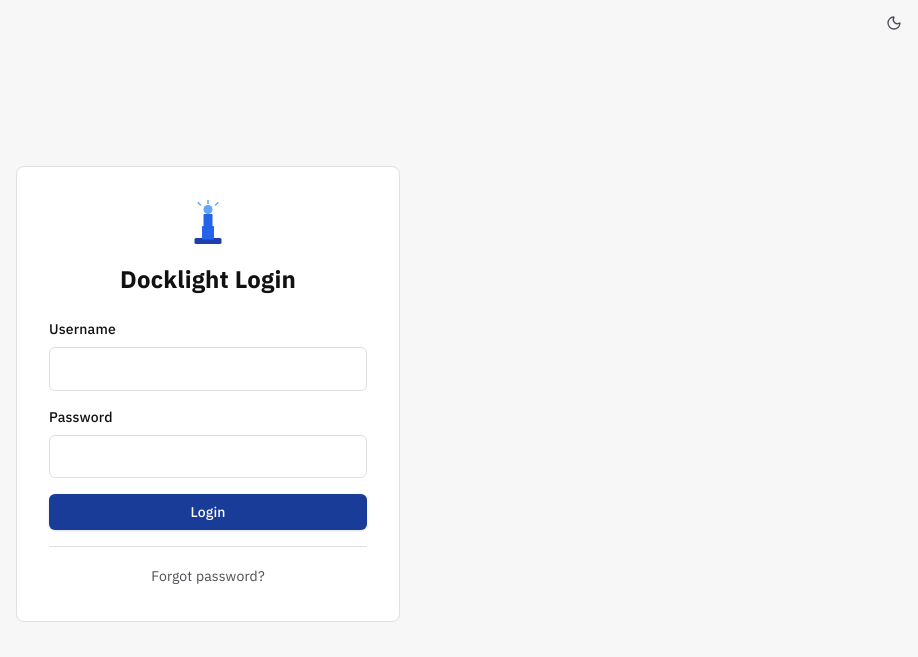
Login › should show error message on failed login
Check: the heading "Docklight Login" is shown, box [120, 263, 296, 295]
Type "testuser" into the field labelled "Username".
click(208, 369); type("testuser")  # box [49, 347, 367, 391]
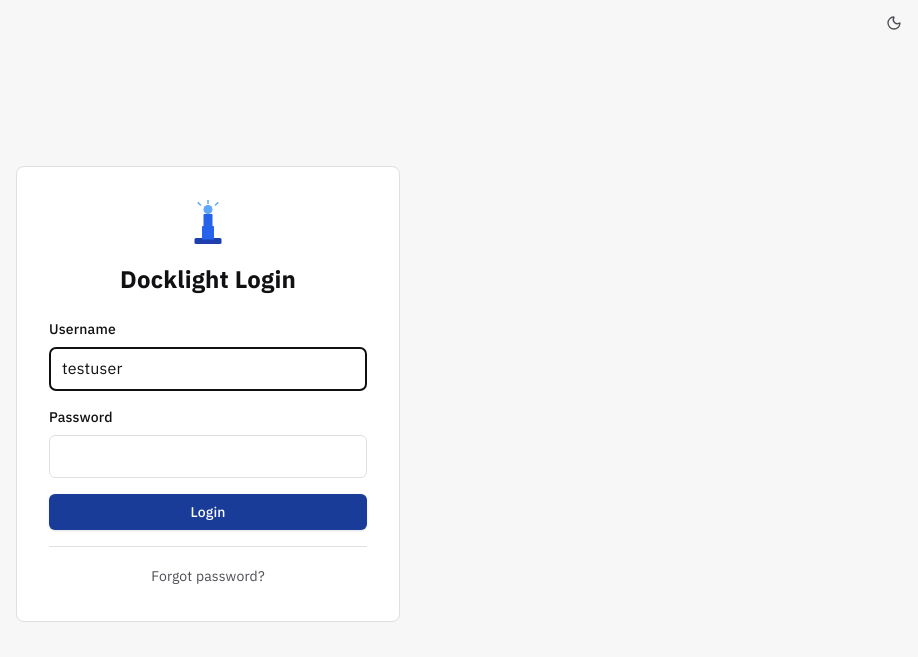
Type "wrong-password" into the password field labelled "Password".
click(208, 456); type("wrong-password")  # box [49, 435, 367, 478]
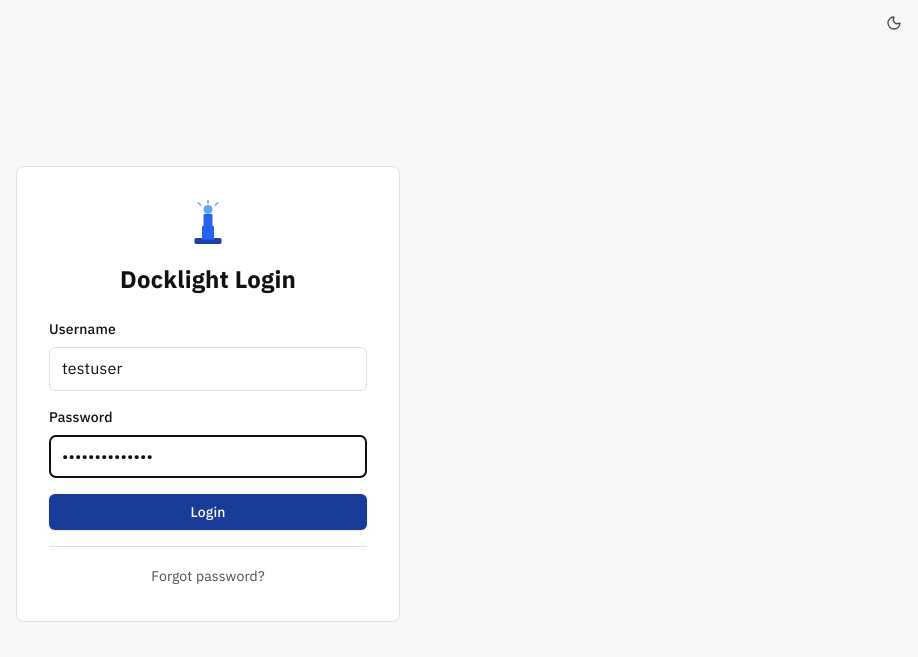
Click the button "Login".
click(208, 512)  # box [49, 494, 367, 530]
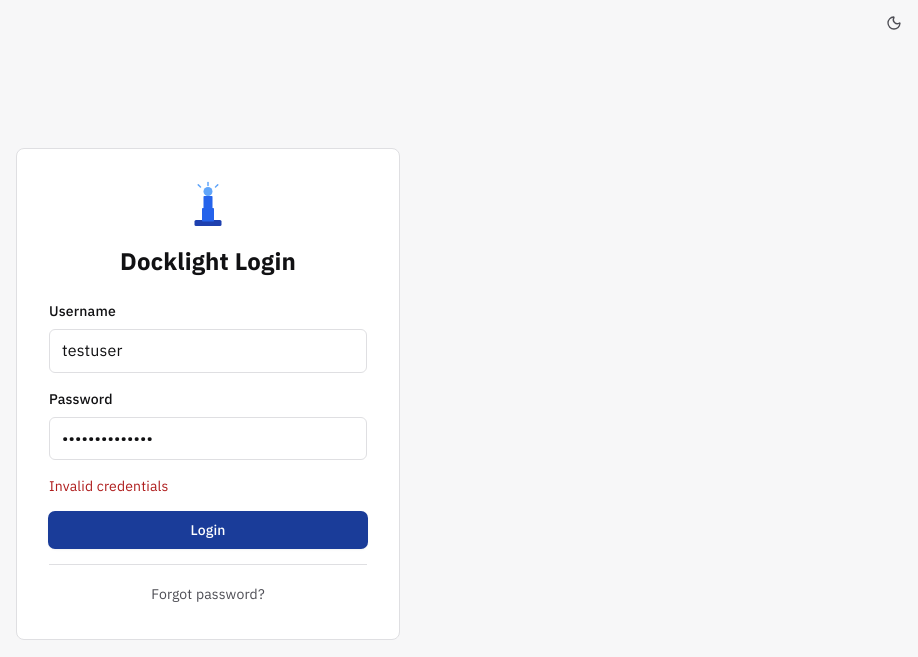
Check: the text "Invalid credentials" is shown, box [49, 477, 168, 495]
